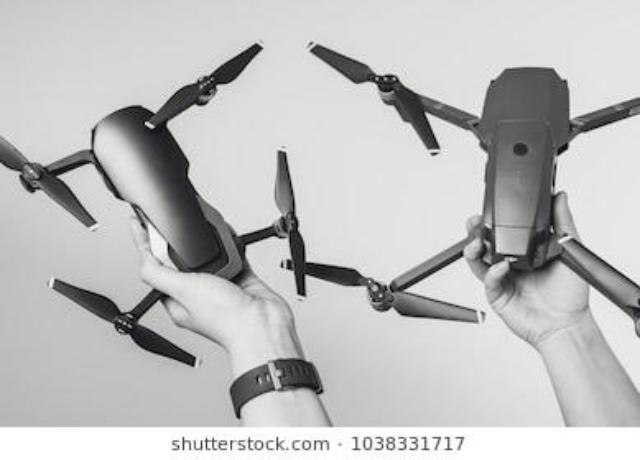drone: (0, 33, 316, 367)
